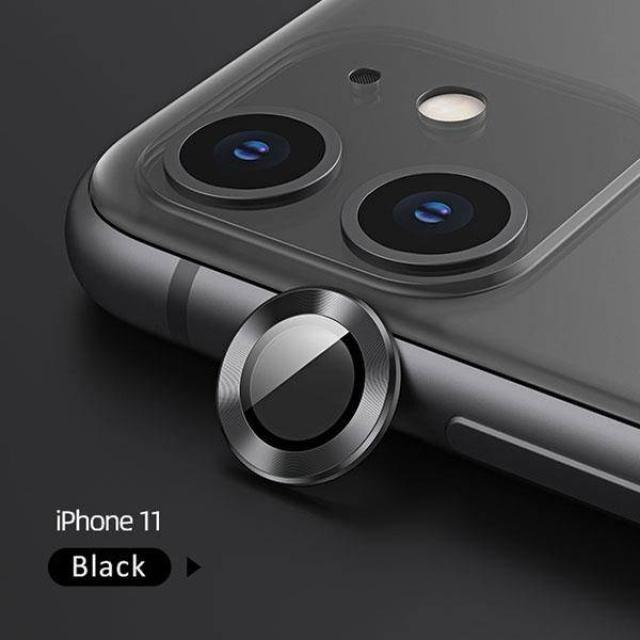hidden camera: (98, 10, 640, 468)
